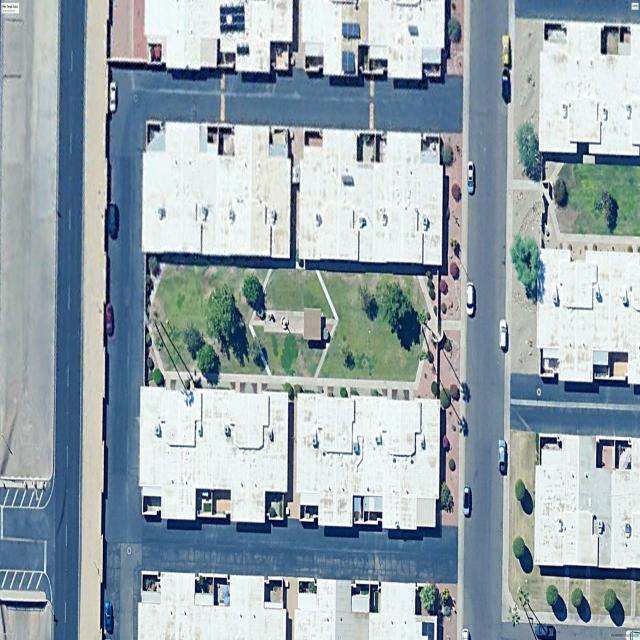Home: (141, 121, 291, 259), (139, 386, 289, 524), (297, 129, 444, 266), (295, 394, 440, 530), (534, 436, 640, 569), (537, 249, 640, 384), (538, 22, 640, 156), (299, 0, 446, 81), (144, 0, 293, 73), (138, 571, 288, 640), (294, 579, 438, 640)
